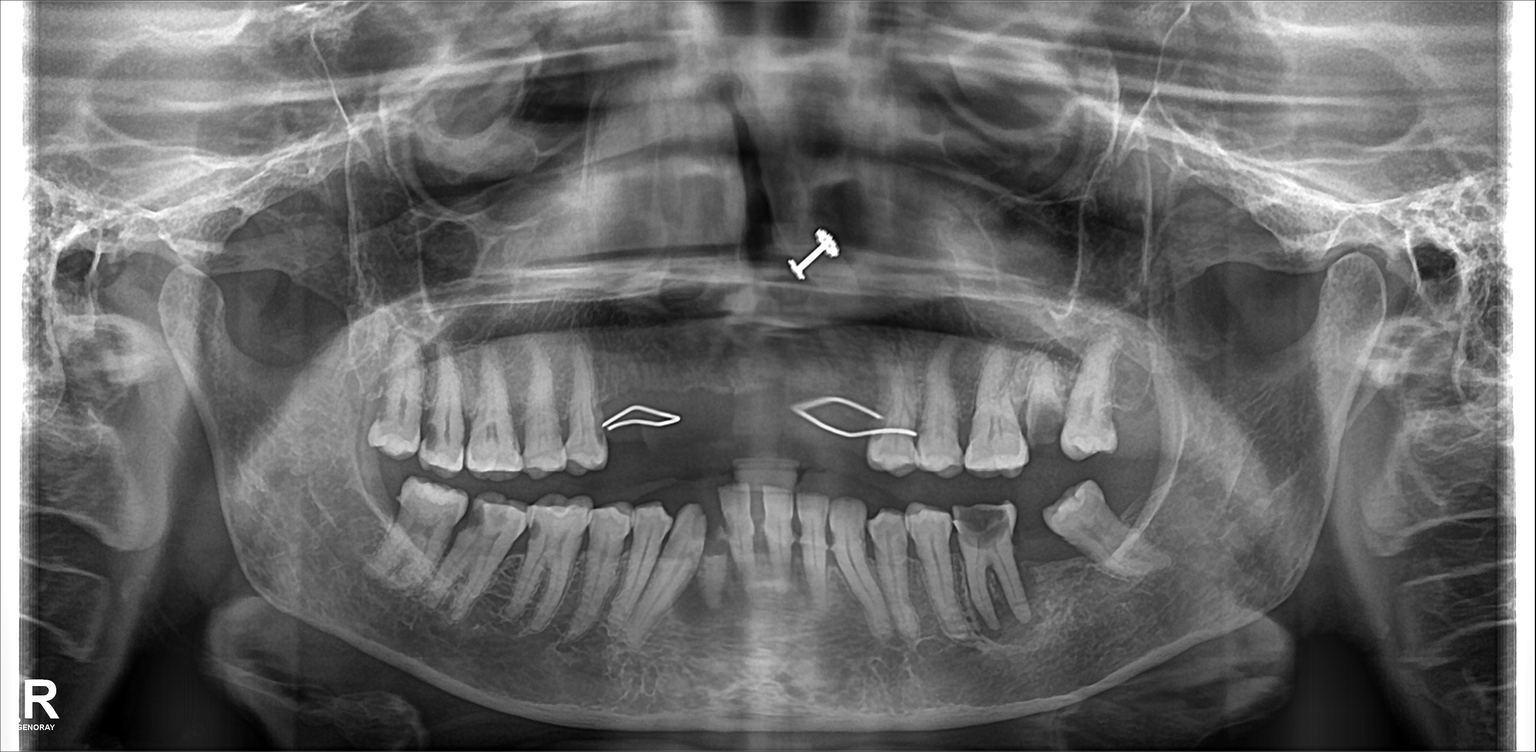Dental Caries: (950, 510, 1012, 542), (1022, 404, 1070, 442), (417, 400, 444, 448), (950, 402, 973, 442), (454, 510, 492, 532)
Impacted Third Molar: (1058, 492, 1159, 570)
Missing Tooth: (648, 350, 717, 456), (790, 354, 855, 450), (596, 352, 651, 456), (728, 359, 778, 459), (1015, 504, 1061, 608), (1117, 350, 1156, 459), (363, 456, 401, 533)
Periapical Lesion: (948, 569, 1040, 643)
Tooth Fracture: (1028, 357, 1073, 456)
